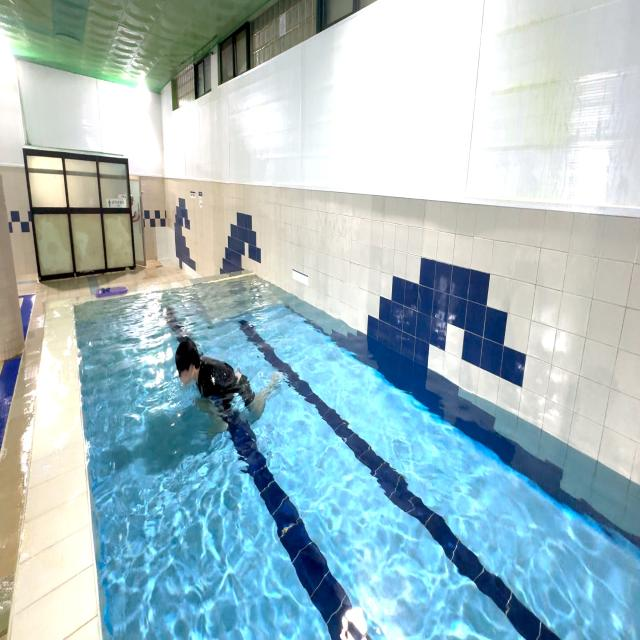Swimming: (174, 331, 284, 426)
